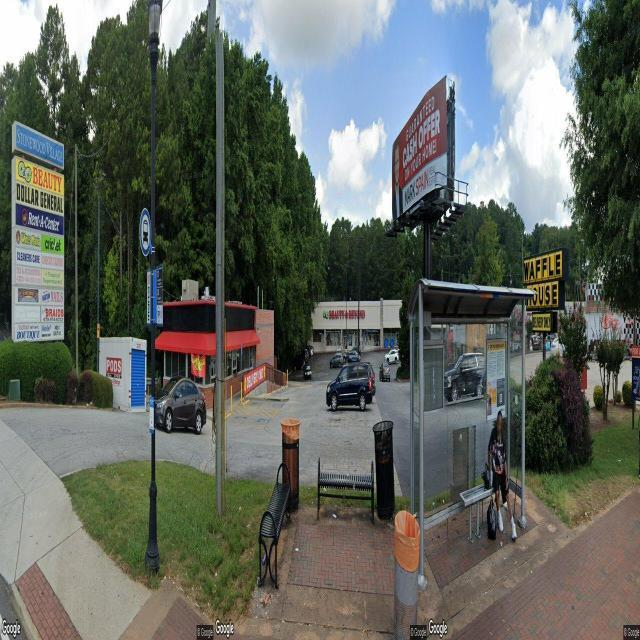seating: (316, 455, 376, 528), (258, 462, 291, 591), (460, 484, 508, 544)
shelter: (408, 278, 535, 570)
trash_can: (394, 511, 421, 640), (372, 417, 395, 522), (280, 416, 301, 514)
